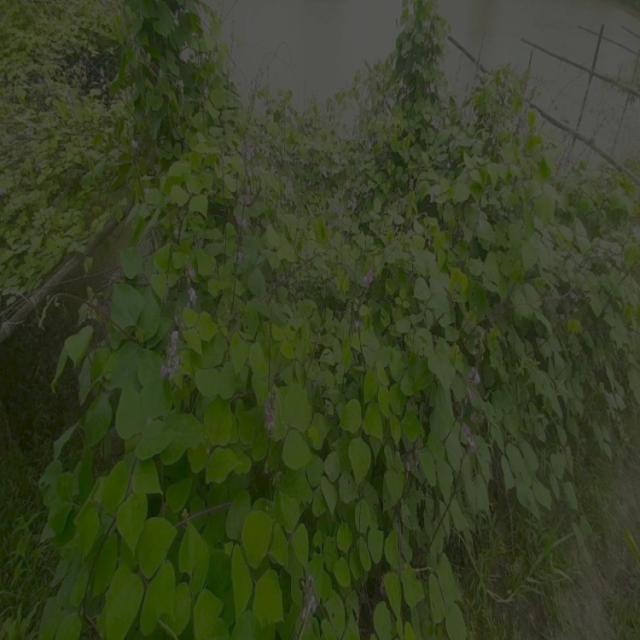leaves: (203, 215, 302, 322)
